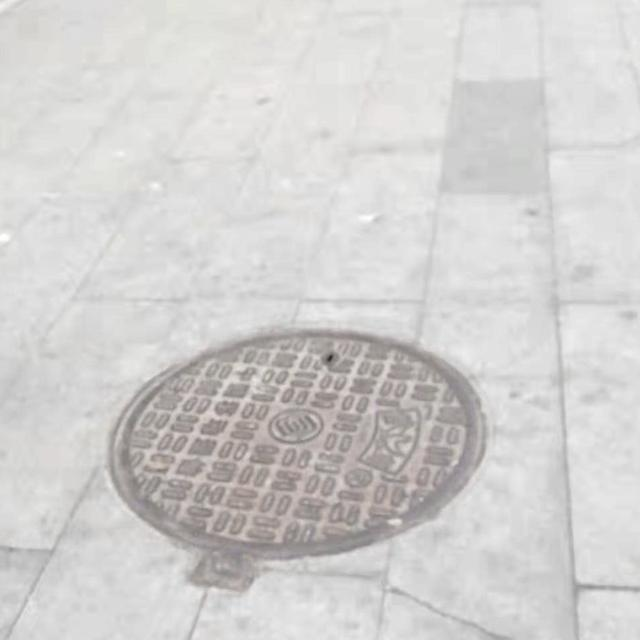good: (108, 323, 488, 595)
